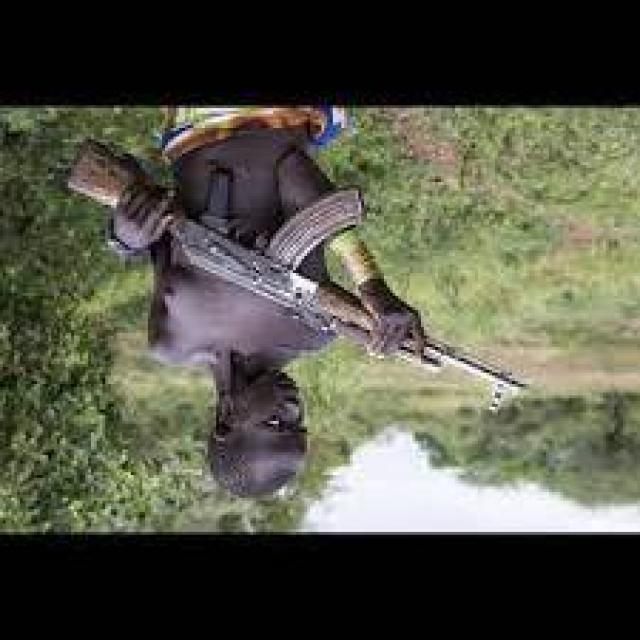weapon: (62, 137, 530, 415)
